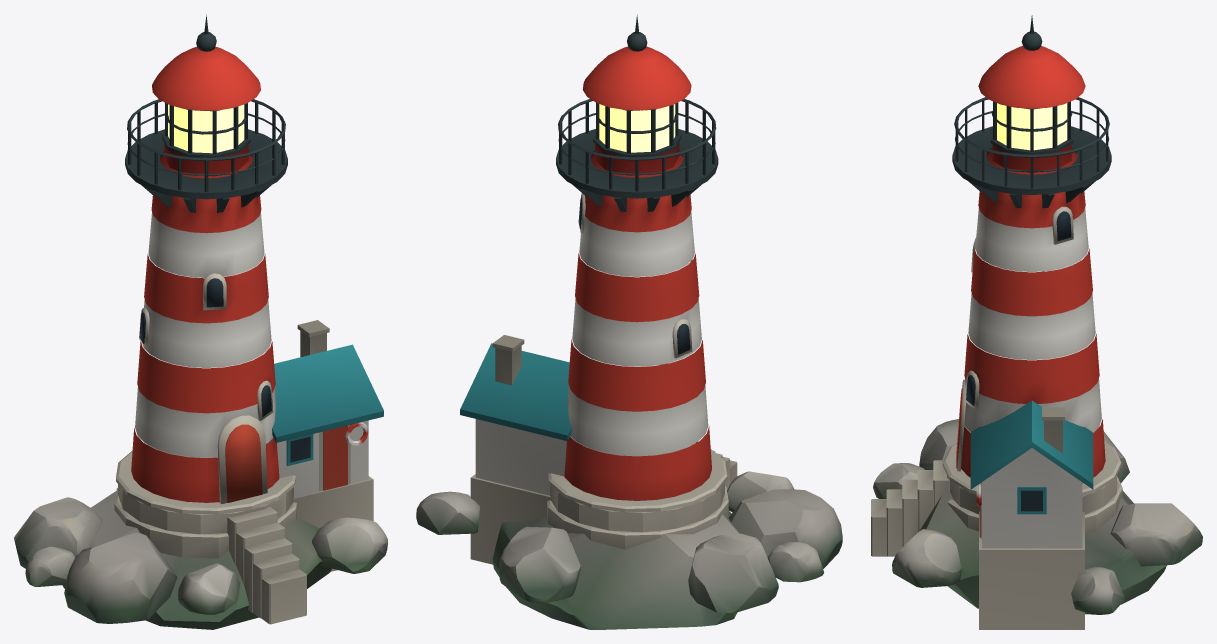
The model's file is lighthouse.glb.
3 renders of one model, left to right at view 1: azimuth 30°, elevation 25°; view 2: azimuth 150°, elevation 25°; view 3: azimuth 270°, elevation 25°, orthographic. The views are drawn at different scales.
Parts seen in each view (by area): view 1: lighthouse; view 2: lighthouse; view 3: lighthouse.
Boxes of the visible parts, x1,y1,x2,y2 form: lighthouse: [14, 14, 387, 629]; lighthouse: [416, 14, 842, 629]; lighthouse: [871, 15, 1202, 629].
Bounding box in the file's own units: 11.93 × 17.5 × 9.59.
